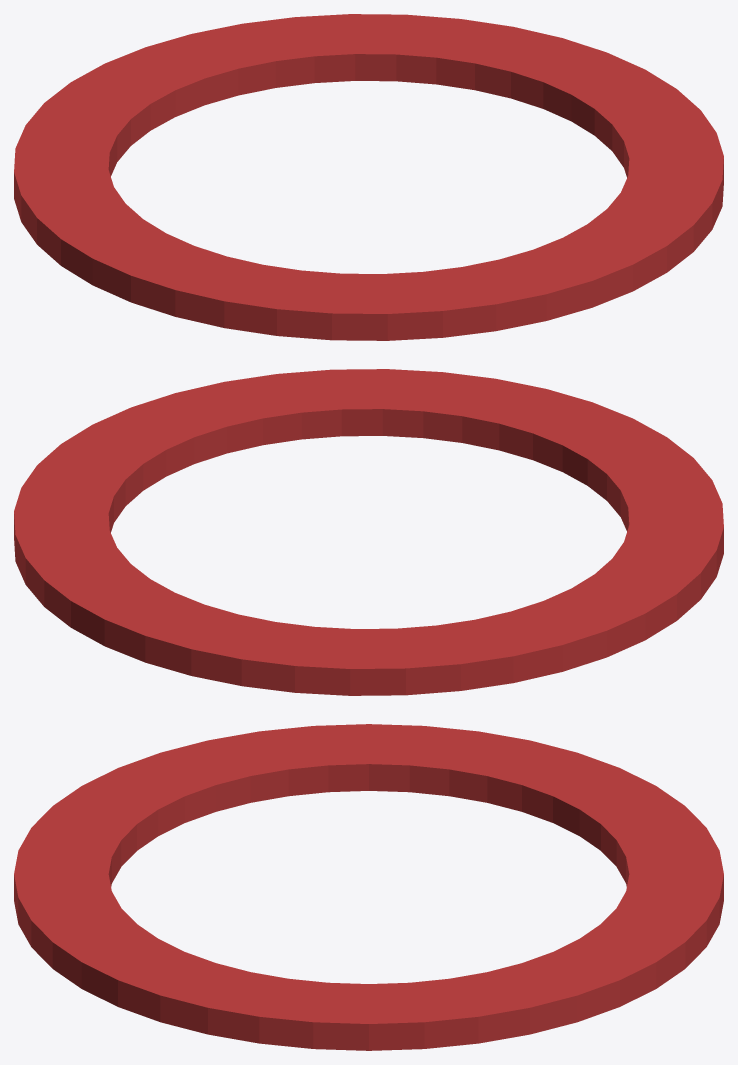
The model's file is circle_red.glb.
The picture shows the model from 3 angles, top to bottom: view 1: azimuth 30°, elevation 25°; view 2: azimuth 150°, elevation 25°; view 3: azimuth 270°, elevation 25°; orthographic projection.
Visible parts, largest first — view 1: circle_red; view 2: circle_red; view 3: circle_red.
Part boxes in pixels (x1,y1,x2,y2): circle_red: (14, 14, 723, 340); circle_red: (14, 369, 723, 695); circle_red: (14, 724, 723, 1050).
Bounding box in the file's own units: 1.2 × 0.05 × 1.2.
1 material, 1 textured.
